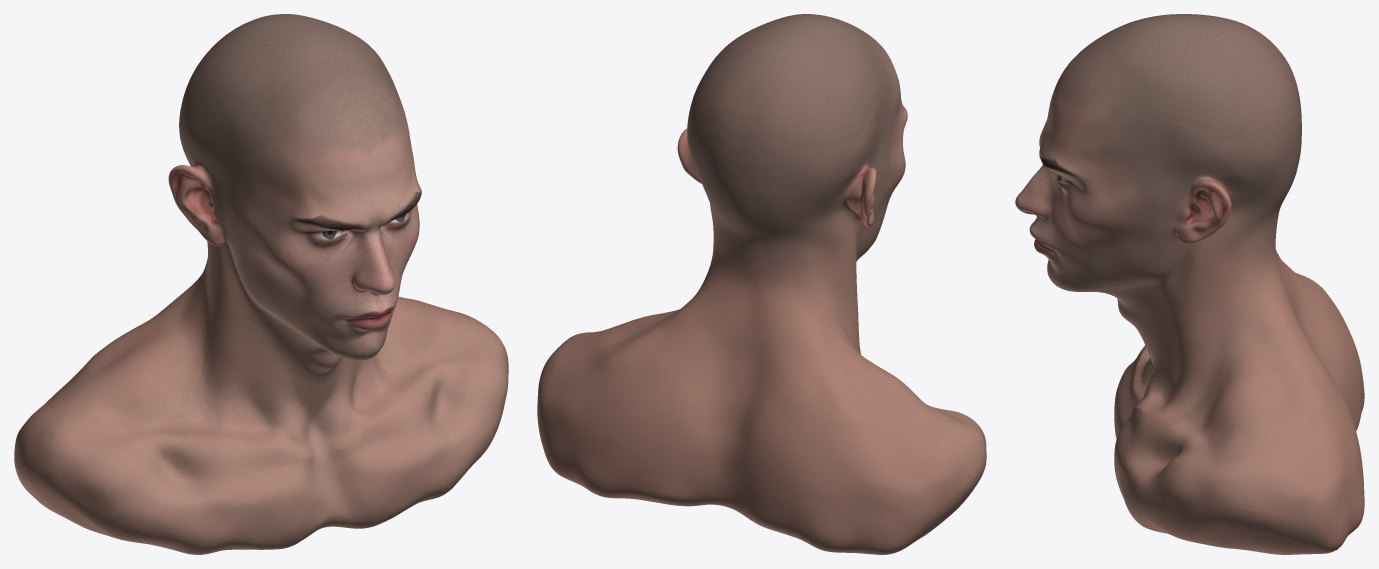
File: rosto_3.glb
The picture shows the model from 3 angles, left to right: view 1: azimuth 30°, elevation 25°; view 2: azimuth 150°, elevation 25°; view 3: azimuth 270°, elevation 25°; orthographic projection. The views are drawn at different scales.
Bounding box in the file's own units: 1.88 × 1.9 × 1.3.
1 material, 1 textured.
